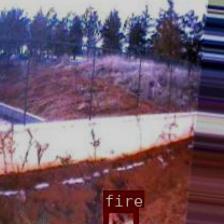fire: (103, 207, 136, 224)
